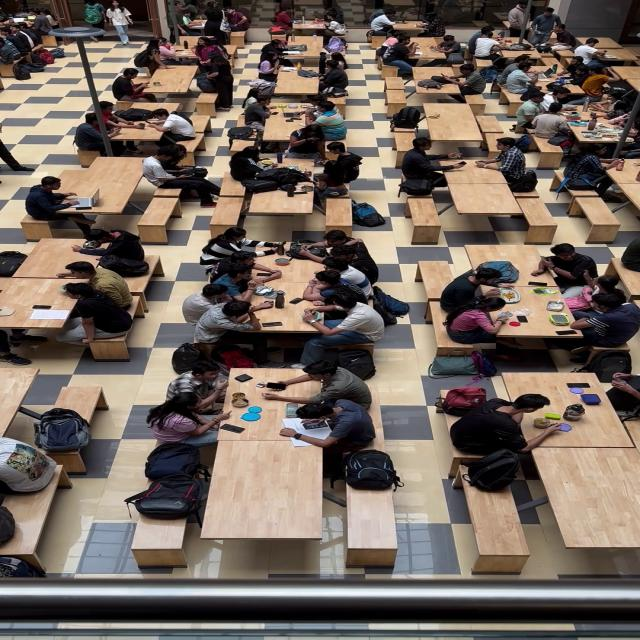Occupied: (501, 371, 637, 448), (194, 277, 373, 332), (253, 99, 353, 175), (214, 372, 321, 442), (229, 245, 353, 304), (449, 393, 557, 456), (7, 241, 154, 287), (2, 274, 144, 318), (80, 117, 211, 163), (264, 359, 373, 412), (281, 396, 377, 454), (145, 393, 233, 447), (46, 172, 129, 226), (140, 148, 220, 204), (199, 330, 364, 355), (166, 363, 232, 418), (562, 146, 628, 200), (24, 178, 92, 230), (188, 294, 272, 336), (307, 294, 385, 338), (439, 266, 510, 314), (199, 226, 281, 266), (0, 371, 41, 450), (60, 261, 133, 303), (401, 137, 463, 186), (208, 259, 282, 298), (91, 101, 144, 154), (458, 449, 521, 492), (538, 245, 598, 290), (299, 257, 369, 295), (396, 78, 475, 111), (78, 229, 146, 264), (228, 145, 283, 187), (478, 137, 527, 183), (436, 64, 486, 104), (147, 110, 197, 146), (204, 53, 234, 112), (580, 348, 633, 381), (562, 123, 628, 149), (305, 102, 347, 142), (438, 384, 488, 416), (111, 68, 155, 104), (442, 164, 514, 185), (282, 125, 325, 160), (502, 45, 562, 70), (579, 87, 628, 117), (2, 23, 42, 59), (445, 296, 496, 324), (514, 93, 552, 130), (334, 349, 377, 381), (288, 23, 345, 47), (429, 350, 478, 377), (316, 61, 349, 99), (146, 37, 185, 69), (242, 95, 274, 134), (172, 342, 210, 374), (502, 63, 540, 94), (323, 283, 369, 308), (242, 80, 277, 112), (372, 288, 409, 318), (98, 256, 150, 277), (193, 36, 227, 67), (255, 167, 310, 186), (327, 155, 363, 184), (475, 261, 519, 284), (571, 38, 609, 64), (216, 345, 256, 369), (353, 203, 386, 228), (257, 52, 284, 82), (0, 250, 29, 277), (473, 33, 503, 59), (390, 106, 422, 130), (604, 78, 637, 101), (31, 10, 58, 38), (470, 351, 498, 378), (599, 49, 640, 67), (550, 26, 580, 50), (288, 242, 328, 260), (507, 171, 539, 193), (392, 36, 422, 59), (398, 178, 434, 196), (431, 35, 461, 56), (390, 22, 428, 38), (223, 8, 249, 31), (0, 37, 23, 63), (240, 179, 279, 194), (261, 38, 290, 58), (548, 128, 575, 148), (115, 108, 154, 121), (272, 8, 294, 31), (423, 15, 446, 37), (324, 15, 348, 35), (134, 47, 156, 67), (227, 126, 255, 141), (195, 72, 216, 92), (317, 185, 349, 198), (479, 65, 502, 83), (162, 54, 195, 66), (174, 11, 192, 33), (580, 60, 608, 74), (312, 186, 328, 210), (179, 166, 208, 179), (369, 23, 394, 38), (19, 59, 45, 73), (324, 37, 346, 53), (430, 74, 459, 86), (256, 81, 277, 97), (417, 78, 444, 90), (321, 86, 348, 98), (12, 63, 31, 80), (34, 48, 54, 64), (514, 135, 532, 152), (205, 263, 222, 280), (259, 141, 282, 153), (431, 172, 448, 188), (446, 50, 465, 64), (458, 85, 482, 96), (381, 44, 397, 60), (491, 56, 509, 70), (246, 79, 274, 88), (297, 68, 321, 78), (506, 43, 532, 51), (383, 36, 399, 48), (49, 46, 65, 58), (270, 25, 290, 34), (284, 44, 307, 51), (539, 46, 550, 51), (369, 31, 371, 37)
Unoccupied: (100, 432, 207, 566), (198, 438, 324, 542), (529, 442, 640, 551), (455, 460, 532, 574), (0, 460, 66, 570), (129, 510, 191, 568), (343, 493, 390, 568), (426, 103, 486, 154), (570, 295, 640, 338), (243, 187, 316, 227), (464, 244, 554, 273), (447, 310, 510, 348), (571, 196, 623, 241), (136, 194, 183, 242), (136, 67, 197, 103), (514, 197, 559, 242), (449, 186, 522, 213), (52, 386, 107, 418), (271, 68, 323, 99), (406, 198, 442, 242), (262, 113, 310, 145), (210, 197, 250, 232), (475, 115, 507, 150), (325, 198, 353, 230), (194, 93, 219, 119), (393, 129, 417, 152), (590, 37, 624, 49)
